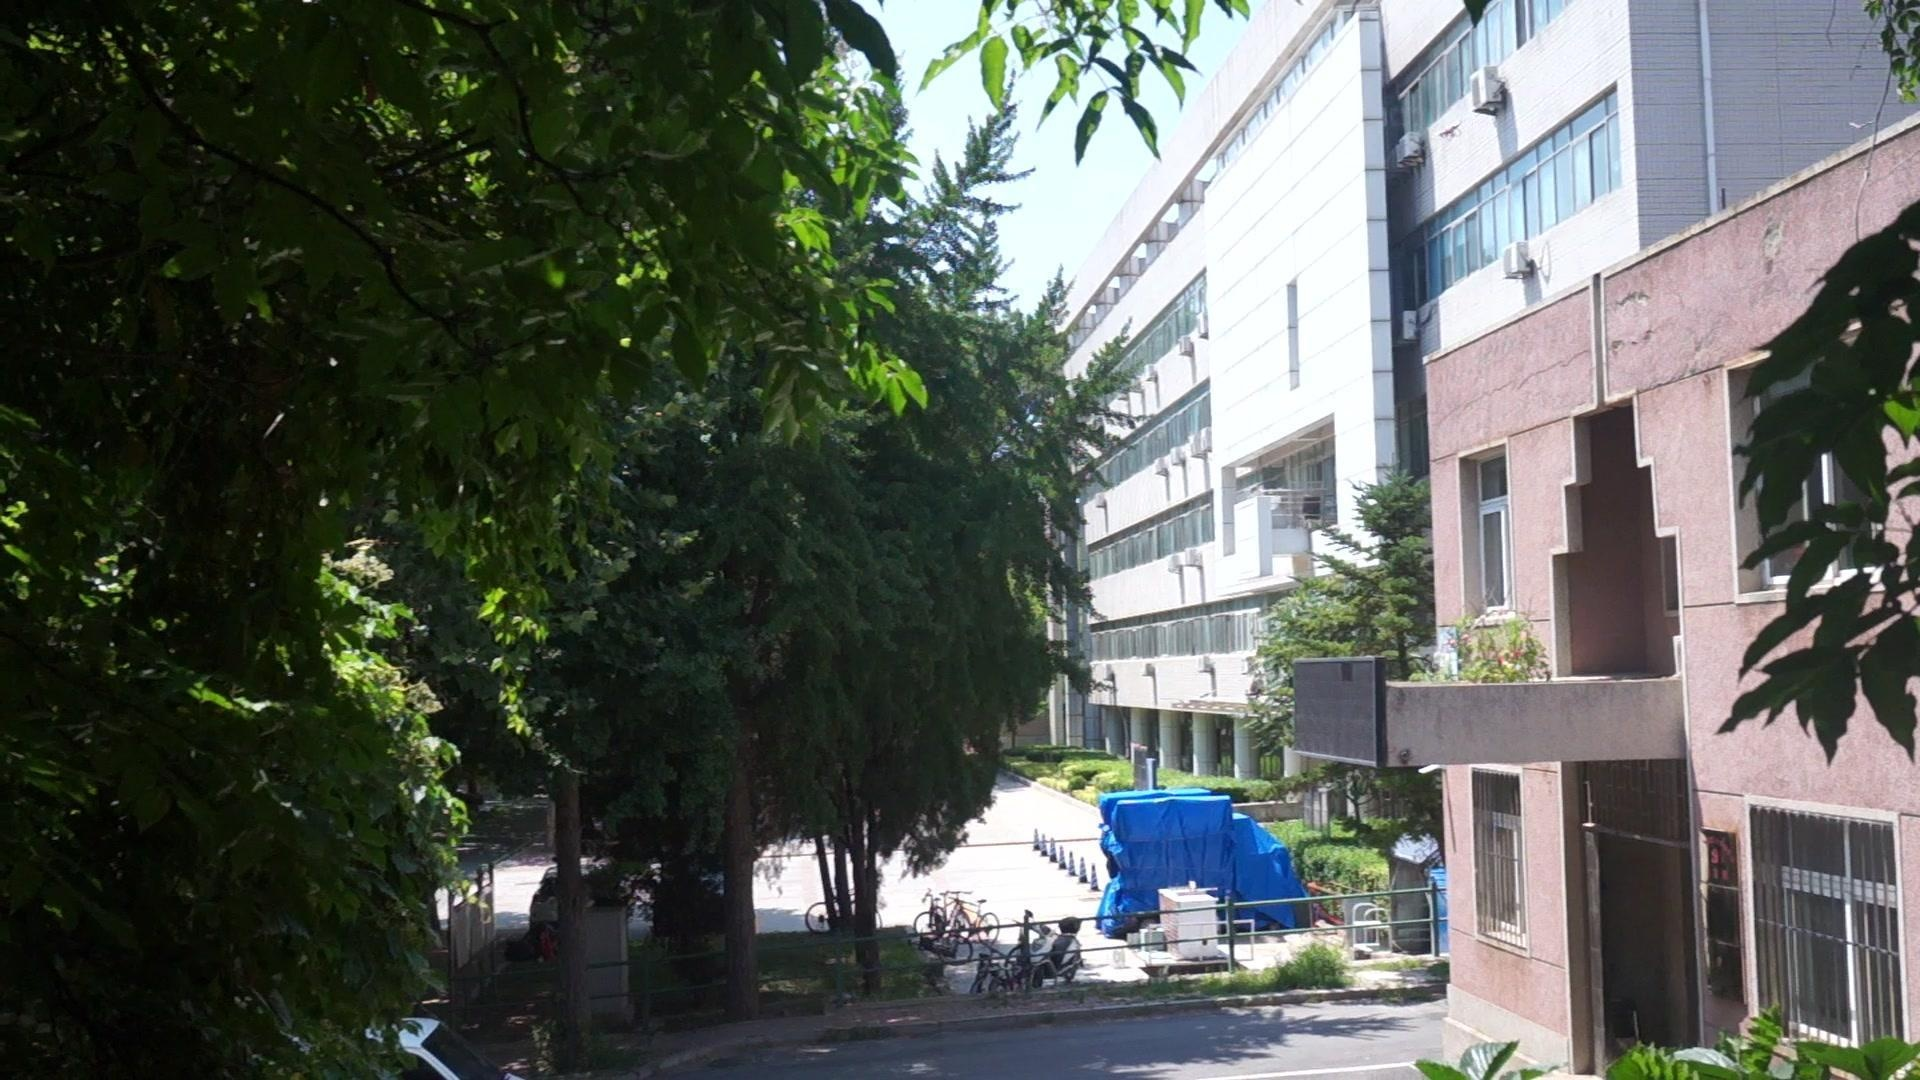UAV: (1433, 121, 1466, 140)
